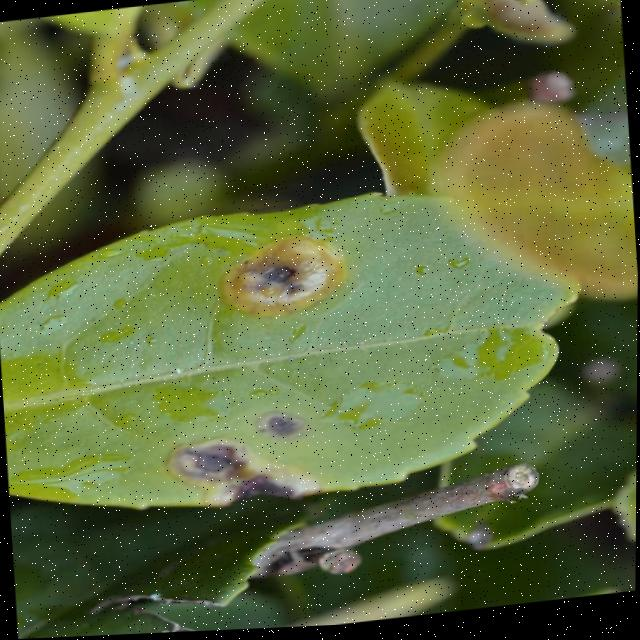Tea cake: (177, 416, 325, 522), (218, 238, 353, 339)
